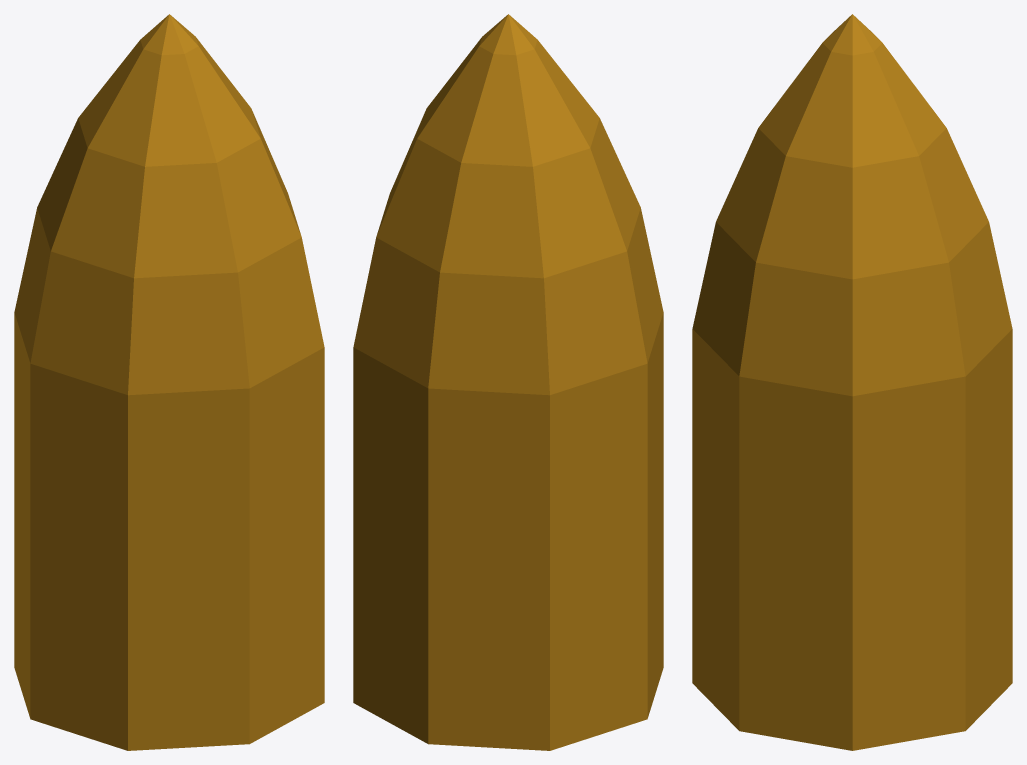
File: Tank Shell.fbx
The picture shows the model from 3 angles, left to right: view 1: azimuth 30°, elevation 25°; view 2: azimuth 150°, elevation 25°; view 3: azimuth 270°, elevation 25°; orthographic projection.
Parts seen in each view (by area): view 1: pCylinder1; view 2: pCylinder1; view 3: pCylinder1.
Boxes of the visible parts, x1=… form: pCylinder1: x1=14, y1=14, x2=324, y2=750; pCylinder1: x1=353, y1=14, x2=663, y2=750; pCylinder1: x1=692, y1=14, x2=1012, y2=750.
Bounding box in the file's own units: 2 × 4.61 × 2.
